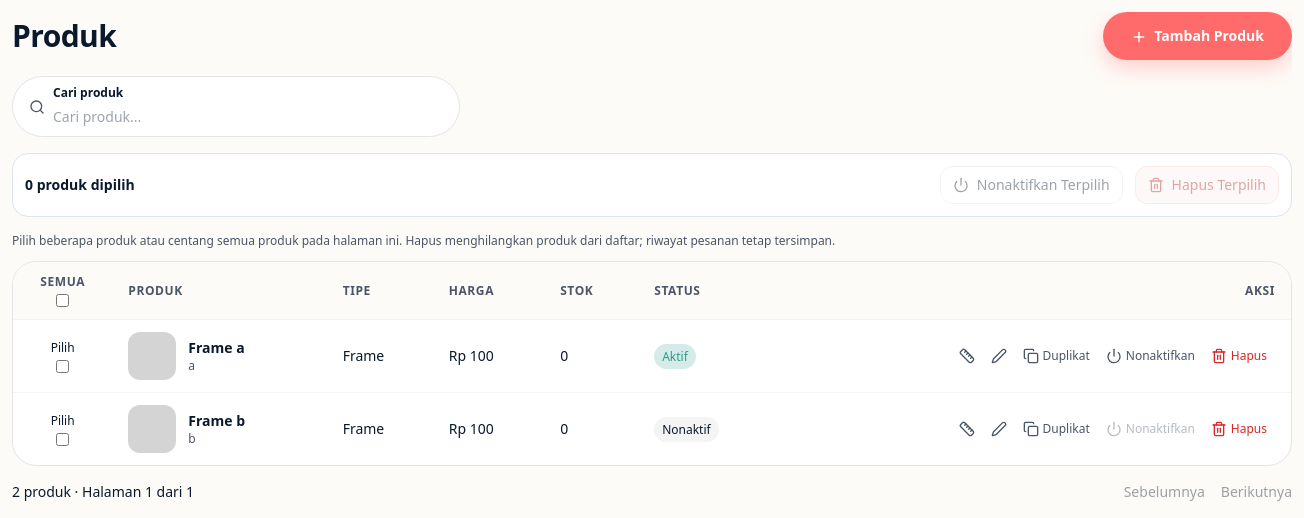
Test: select all supports bulk deactivation and clears selection after success
This screenshot has width=1304, height=518.
Expected: the button with test id "bulk-delete-products" is disabled, [1135, 166, 1279, 204]
Click the checkbox named "Pilih Frame a" at (63, 366), box [56, 360, 69, 372]
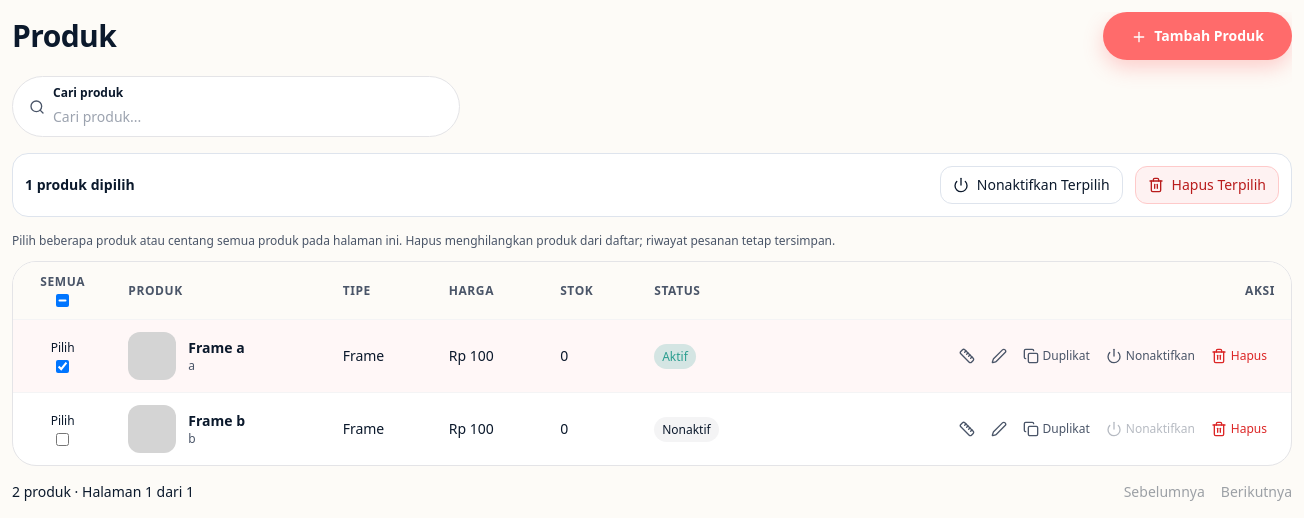
Click the checkbox named "Pilih semua produk pada halaman ini" at (63, 300), box [56, 294, 69, 307]
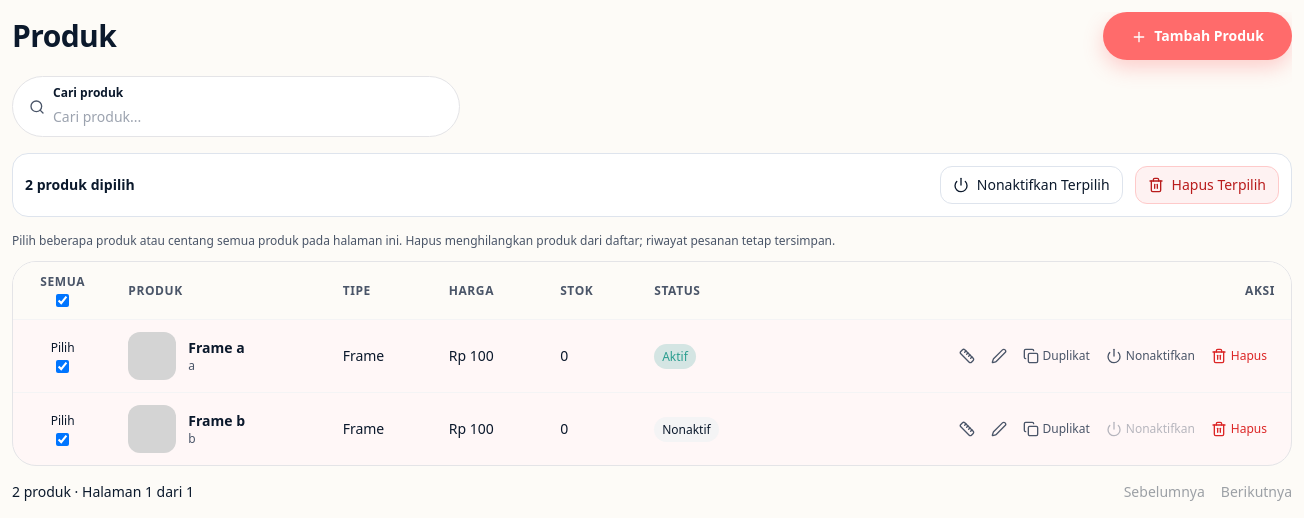
Now the checkbox named "Pilih semua produk pada halaman ini" is checked, box [56, 294, 69, 307]
Click the button with test id "bulk-deactivate-products" at (1031, 185), box [940, 166, 1123, 204]
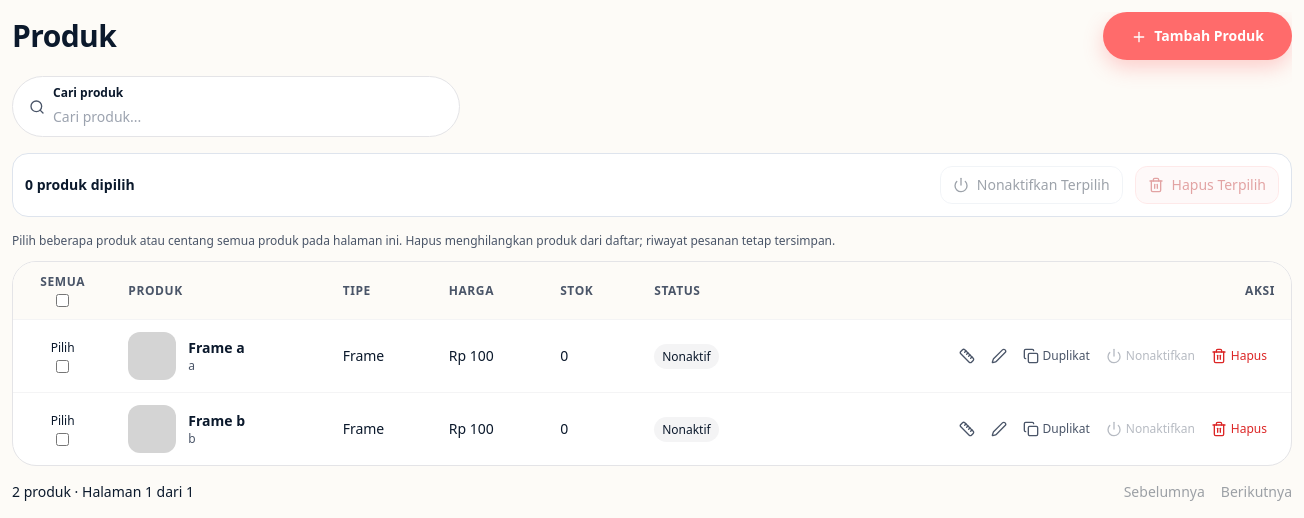
Now the message "0 produk dipilih" is shown, box [25, 175, 135, 195]
